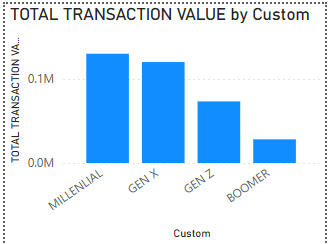

Layout of this report page (visuals, bound fields, positions):
{"tool":"powerbi","page":{"name":"tooltip 1","canvas":[320,240],"ordinal":1},"visuals":[{"type":"clusteredColumnChart","fields":{"Category":["All_Users.Custom"],"Y":["measure.TOTAL TRANSACTION VALUE"]},"box":[0,0,320,240],"z":0}]}

Visuals, with their boxes in screenshot pixels (x1, y1, x2, y2), scaled from the page's 320x240 canvas onto the 330x244 screenshot:
clusteredColumnChart - All_Users.Custom x measure.TOTAL TRANSACTION VALUE: BBox(0, 0, 329, 243)
